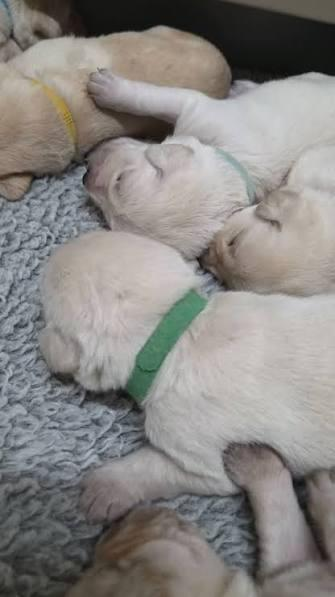puppy-dog: (35, 226, 335, 527), (82, 65, 335, 261), (61, 443, 335, 597), (0, 23, 234, 203), (198, 143, 335, 298)
